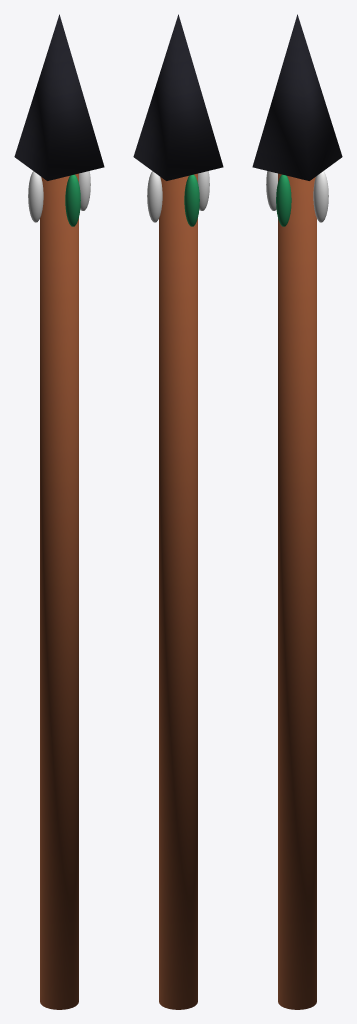
The model's file is lanza_obsidiana.glb.
The picture shows the model from 3 angles, left to right: view 1: azimuth 30°, elevation 25°; view 2: azimuth 210°, elevation 25°; view 3: azimuth 330°, elevation 25°; orthographic projection.
Parts seen in each view (by area): view 1: lanza_obsidiana_fijo; view 2: lanza_obsidiana_fijo; view 3: lanza_obsidiana_fijo.
Part boxes in pixels (x1,y1,x2,y2): lanza_obsidiana_fijo: (14,14,104,1009); lanza_obsidiana_fijo: (133,14,223,1009); lanza_obsidiana_fijo: (252,14,342,1009).
Size of the model in its own units: 0.18 by 2.8 by 0.18.
Materials: 2 (2 with a texture image).
